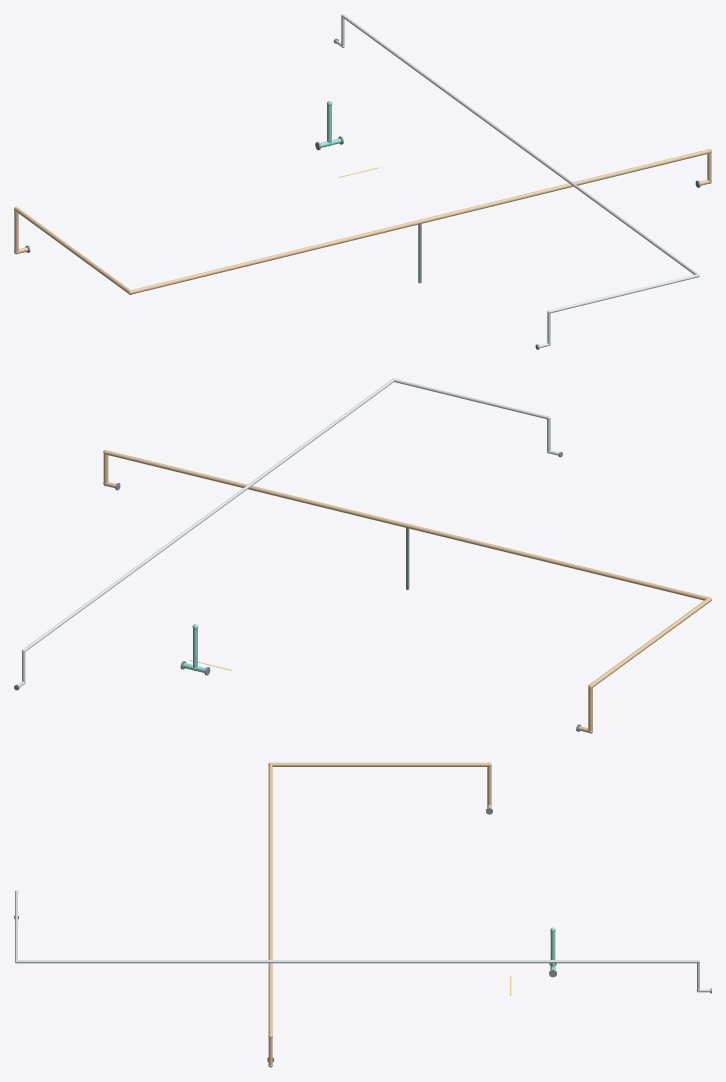
3 views of the same model, one above another, from view 1: azimuth 30°, elevation 25°; view 2: azimuth 150°, elevation 25°; view 3: azimuth 270°, elevation 25° (orthographic). The views are drawn at different scales.
Parts seen in each view (by area): view 1: render-batch-3, render-batch-2; view 2: render-batch-3, render-batch-2; view 3: render-batch-2, render-batch-3.
Part boxes in pixels (x1,y1,x2,y2): render-batch-3: [14, 149, 711, 294]; render-batch-2: [335, 14, 699, 347]; render-batch-3: [103, 449, 711, 733]; render-batch-2: [18, 378, 558, 686]; render-batch-2: [15, 890, 710, 992]; render-batch-3: [268, 762, 491, 1067].
Size of the model in its own units: 45.84 by 5.25 by 49.44.
